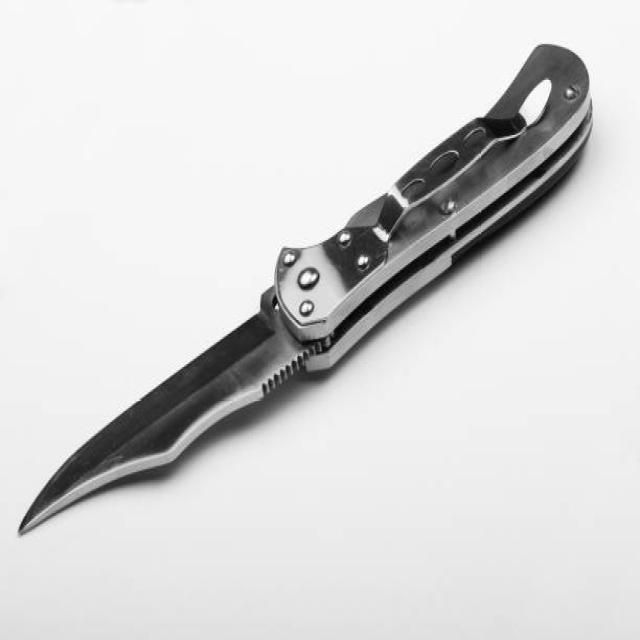knife: (17, 39, 597, 544)
